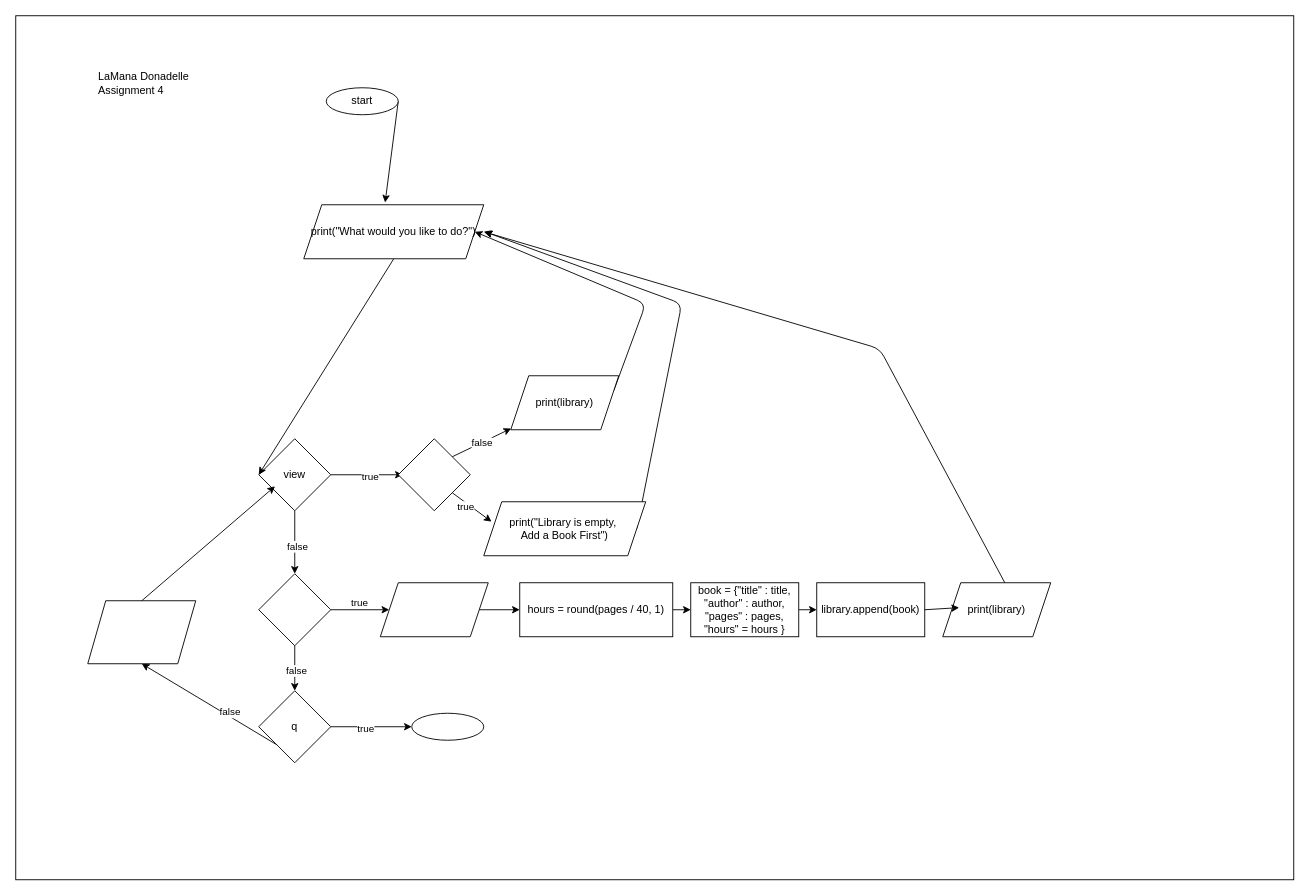
This 1310x896 diagram has some shape labels left out. Each missing label, with the box of its shape:
"enter 1, 2 or q": (87, 600, 196, 664)
add: (258, 573, 331, 646)
end: (411, 712, 484, 740)
len(library) = 0: (397, 438, 470, 511)
title author int(pages): (379, 582, 488, 637)
